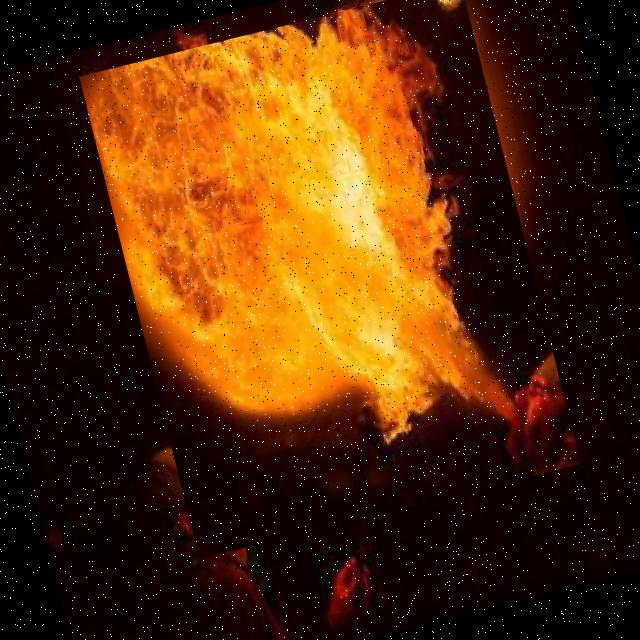fire: (78, 0, 580, 558)
